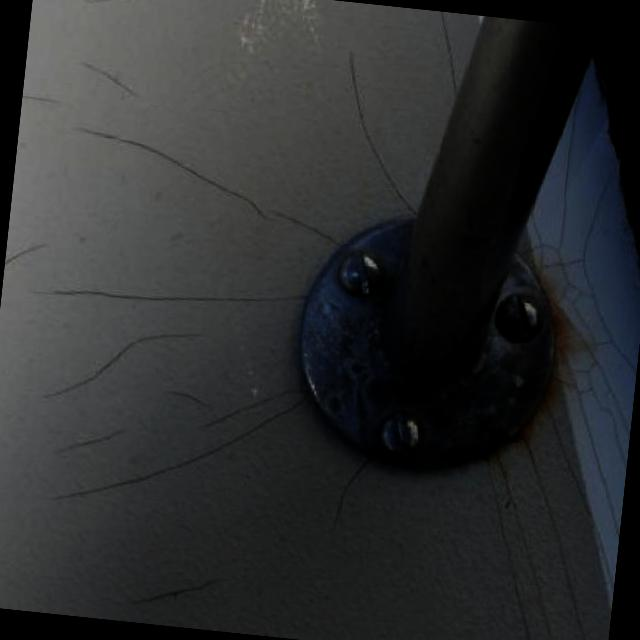crack: (71, 121, 344, 243), (39, 397, 308, 504), (518, 430, 591, 640), (536, 389, 611, 584), (346, 39, 421, 222), (494, 443, 558, 640), (579, 166, 636, 380), (31, 330, 198, 401), (546, 292, 629, 434), (553, 342, 616, 528), (482, 454, 533, 640), (558, 80, 594, 298), (33, 283, 310, 306), (194, 385, 305, 432), (329, 450, 377, 531), (587, 358, 625, 458), (70, 57, 140, 99), (51, 423, 132, 456), (525, 205, 559, 280), (4, 240, 51, 268), (165, 388, 211, 409)
